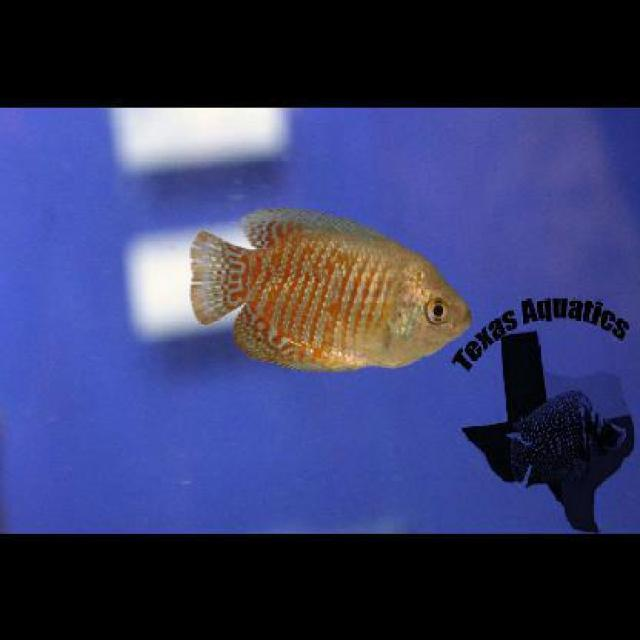Gourami: (184, 203, 478, 374)
